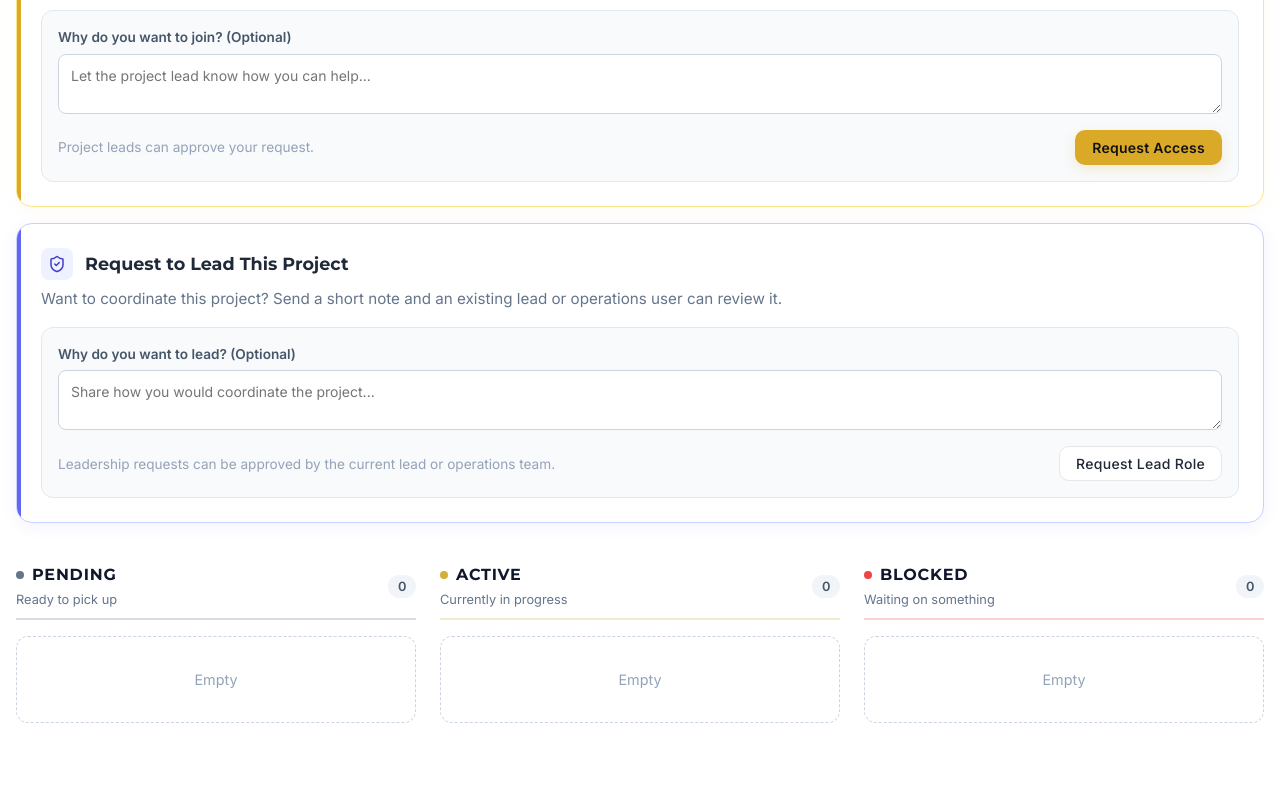
ProjectDetailPage flows › lets a volunteer request project leadership
(page scrolled)
expect the heading "Request to Lead This Project" is shown: met, box [85,250,348,277]
Type "I can coordinate tasks and keep updates moving." into the text box labelled "Why do you want to lead? (Optional)" at {"x": 640, "y": 400}, box [58,370,1222,430]
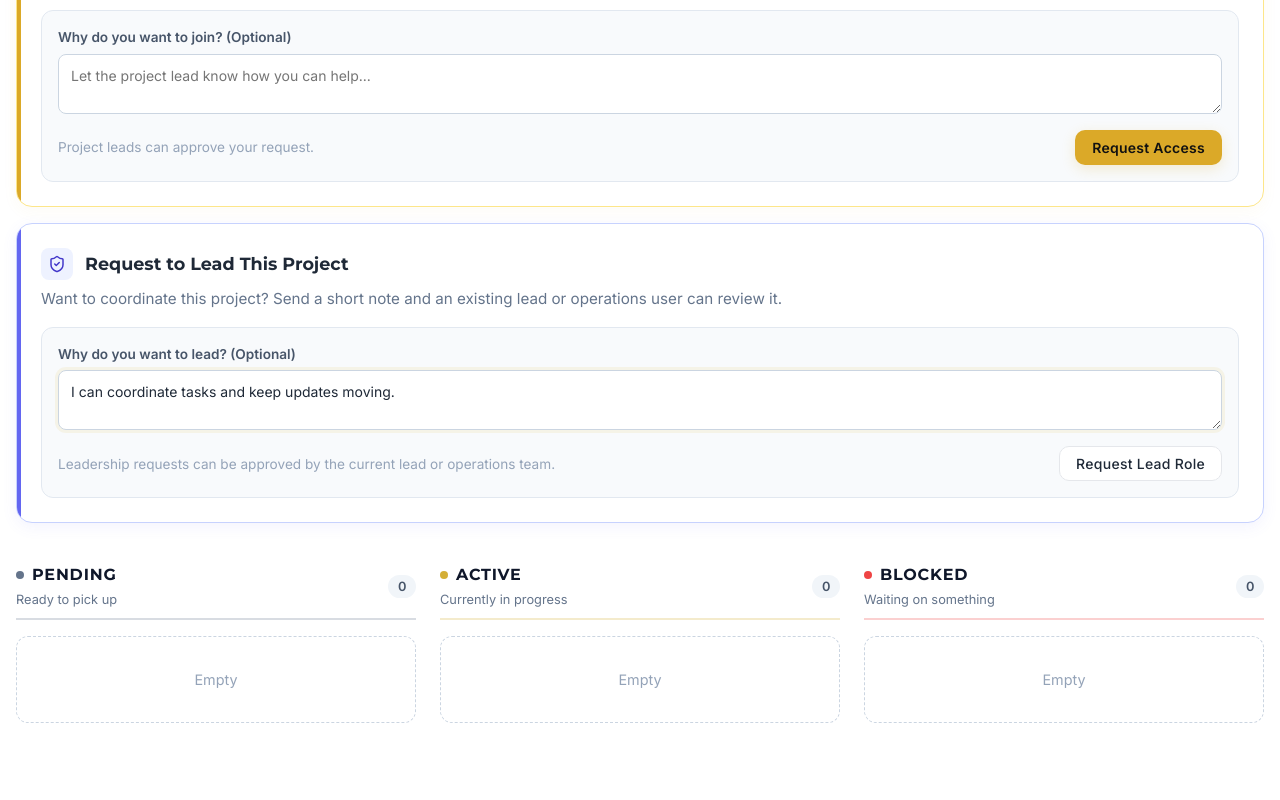
Click the button "Request Lead Role" at {"x": 1141, "y": 464}, box [1059,446,1222,481]
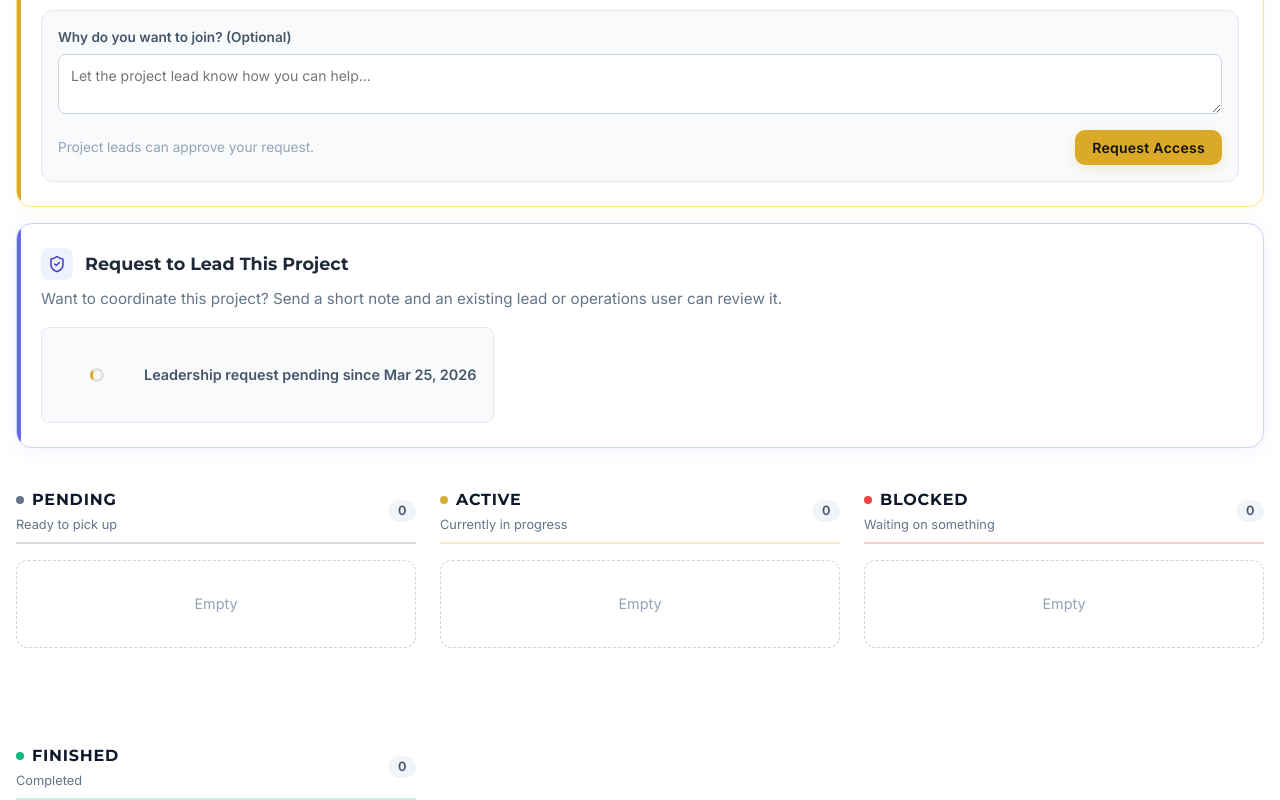
expect the text "Leadership request pending since Mar 25, 2026" is shown: met, box [41,326,494,422]
